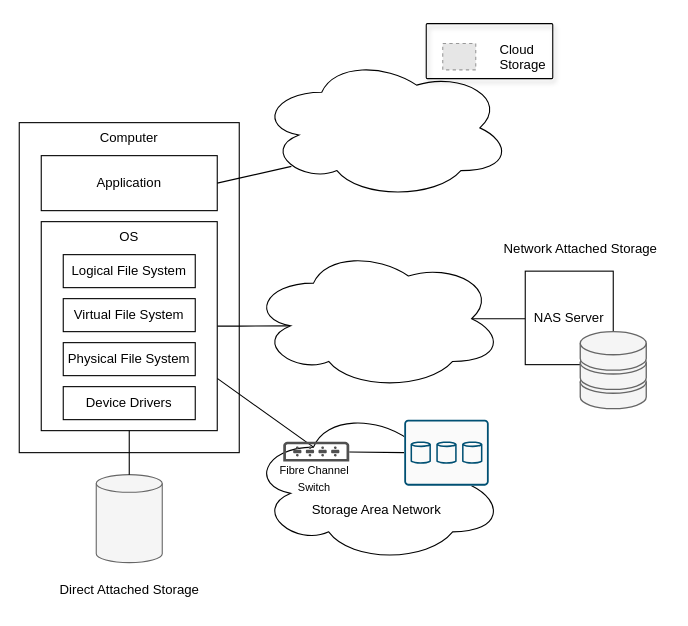
The diagram is 688 pixels wide and 626 high, and some of its shapes have lost their labels. Grey dashed boxes stand in for pictures. The centre of each missing label's shape, as x and y in pixels:
Internet: point 384,127
Local IP Network: point 376,318
Storage Device: point 128,518
